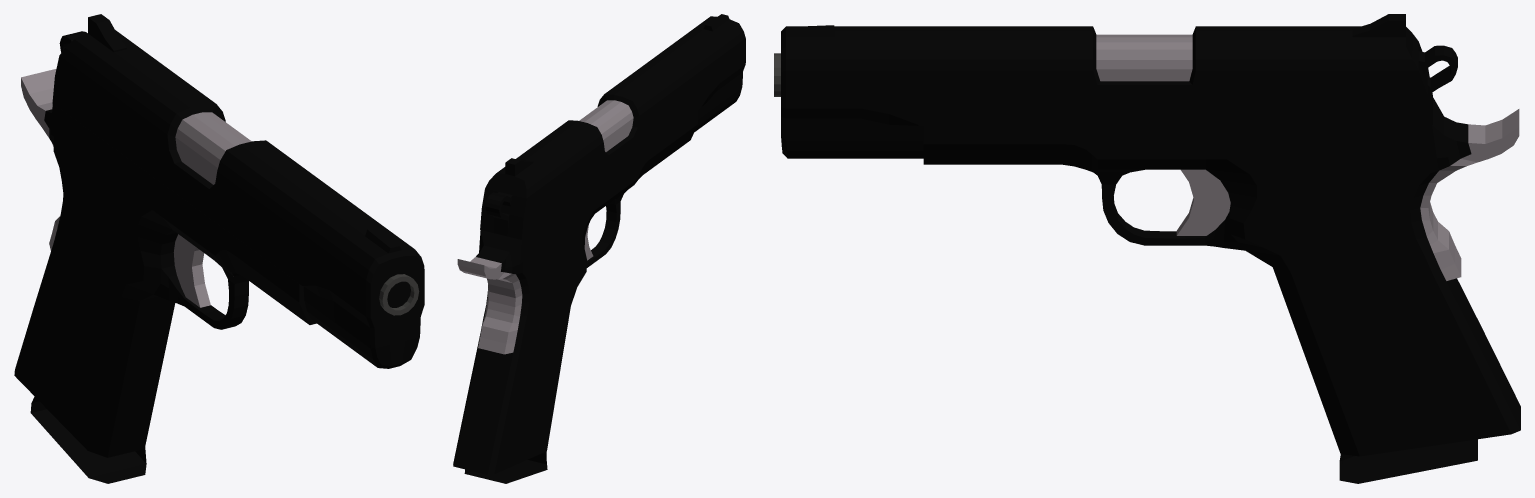
File: Bul 1911 & Magazine.fbx
3 renders of one model, left to right at view 1: azimuth 30°, elevation 25°; view 2: azimuth 150°, elevation 25°; view 3: azimuth 270°, elevation 25°, orthographic. The views are drawn at different scales.
Visible parts, largest first — view 1: Bul 1911, Bul 1911 Magazine; view 2: Bul 1911, Bul 1911 Magazine; view 3: Bul 1911, Bul 1911 Magazine.
Part boxes in pixels (box(x1,y1,x2,y2)): Bul 1911: box(14, 14, 424, 457); Bul 1911 Magazine: box(30, 396, 146, 483); Bul 1911: box(453, 14, 745, 474); Bul 1911 Magazine: box(464, 451, 547, 483); Bul 1911: box(774, 14, 1520, 456); Bul 1911 Magazine: box(1339, 439, 1477, 483).
Bounding box in the file's own units: 0.0231 × 0.1672 × 0.2493.
